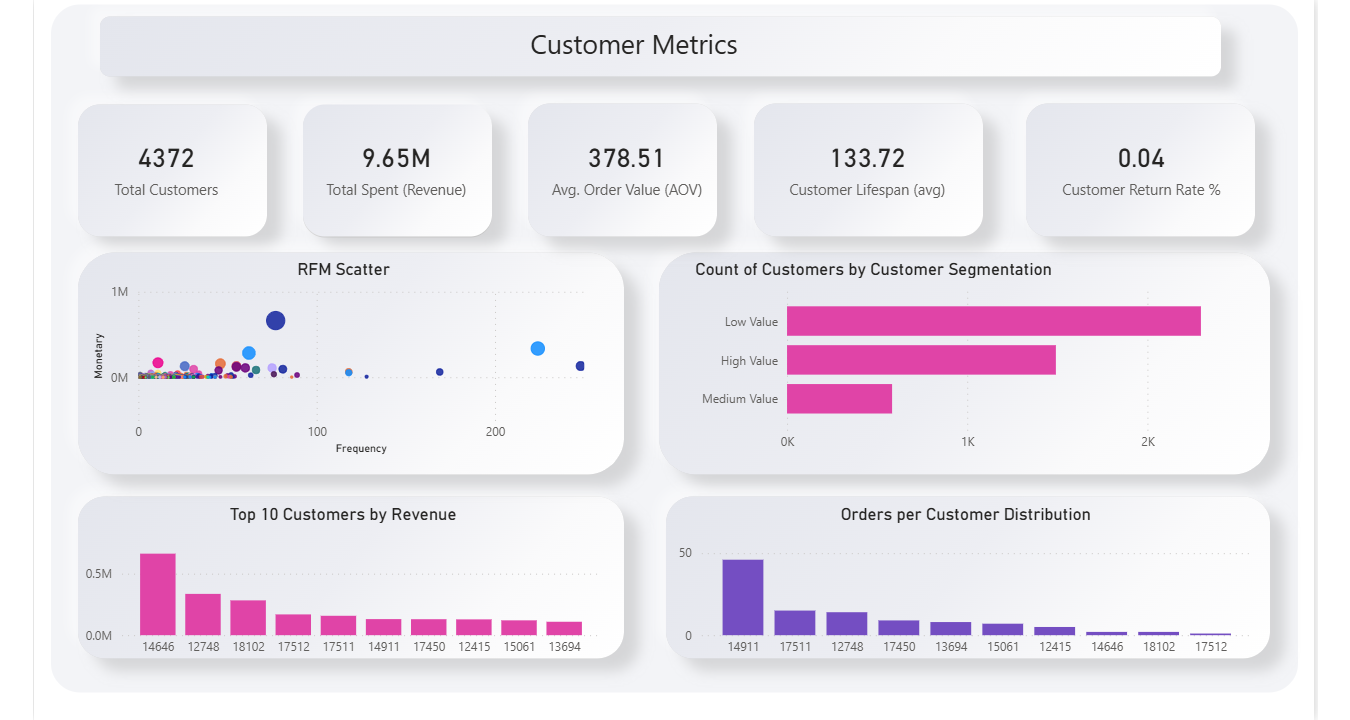

The dashboard page shown, as its layout file describes it:
{"tool":"powerbi","page":{"name":"Customer Analytics","canvas":[1280,720],"ordinal":1},"visuals":[{"type":"card","fields":{"Values":["Count(customer_metrics.CustomerID)"]},"box":[32.6,116.3,200,100],"z":0},{"type":"columnChart","title":"Top 10 Customers by Revenue","fields":{"Y":["Sum(customer_metrics.total_spent)"],"Category":["customer_metrics.CustomerID"]},"box":[46.5,503.5,525.6,161.6],"z":1000},{"type":"card","fields":{"Values":["Sum(customer_metrics.total_spent)"]},"box":[262.8,116.3,200,100],"z":2000},{"type":"card","fields":{"Values":["Avg(customer_metrics.customer_return_rate)"]},"box":[993,116.3,230.2,100],"z":3000},{"type":"card","fields":{"Values":["Avg(customer_metrics.customer_lifespan_days)"]},"box":[714,116.3,239.5,100],"z":4000},{"type":"card","fields":{"Values":["Avg(customer_metrics.avg_order_value)"]},"box":[493,116.3,201.2,100],"z":5000},{"type":"scatterChart","title":"RFM Scatter","fields":{"X":["customer_segmentation.frequency"],"Y":["customer_segmentation.monetary"],"Size":["Sum(customer_metrics.total_spent)"],"Series":["customer_segmentation.recency_days"]},"box":[53.5,259.3,511.6,201.2],"z":6000},{"type":"clusteredBarChart","title":"Count of Customers by Customer Segmentation","fields":{"Category":["customer_segmentation.customer_segment"],"Y":["Count(customer_segmentation.CustomerID)"]},"box":[655.8,259.3,567.4,201.2],"z":7000},{"type":"clusteredColumnChart","title":"Orders per Customer Distribution","fields":{"Y":["Sum(customer_metrics.total_orders)"],"Category":["customer_metrics.CustomerID"]},"box":[639.5,503.5,583.7,161.6],"z":8000},{"type":"textbox","box":[450,20,300,47.7],"z":9000}]}

Visuals, with their boxes on the page's 1280x720 design canvas (x1, y1, x2, y2). These are canvas units, not pixel positions in the 1350x720 screenshot, which may show the page scaled, cropped or inside an application window:
card - Count(customer_metrics.CustomerID): [33, 116, 233, 216]
"Top 10 Customers by Revenue" columnChart: [46, 504, 572, 665]
card - Sum(customer_metrics.total_spent): [263, 116, 463, 216]
card - Avg(customer_metrics.customer_return_rate): [993, 116, 1223, 216]
card - Avg(customer_metrics.customer_lifespan_days): [714, 116, 954, 216]
card - Avg(customer_metrics.avg_order_value): [493, 116, 694, 216]
"RFM Scatter" scatterChart: [54, 259, 565, 460]
"Count of Customers by Customer Segmentation" clusteredBarChart: [656, 259, 1223, 460]
"Orders per Customer Distribution" clusteredColumnChart: [640, 504, 1223, 665]
textbox: [450, 20, 750, 68]
